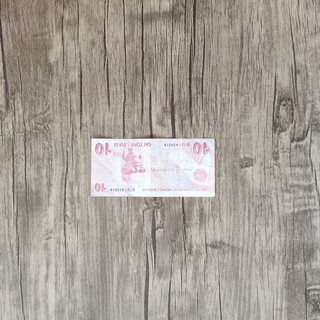10TLBack: (90, 137, 215, 197)
